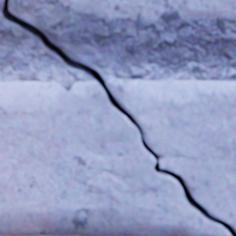brick: (59, 0, 235, 20)
broken_brick: (0, 80, 230, 235), (105, 79, 235, 230)
crack: (0, 0, 235, 235)
